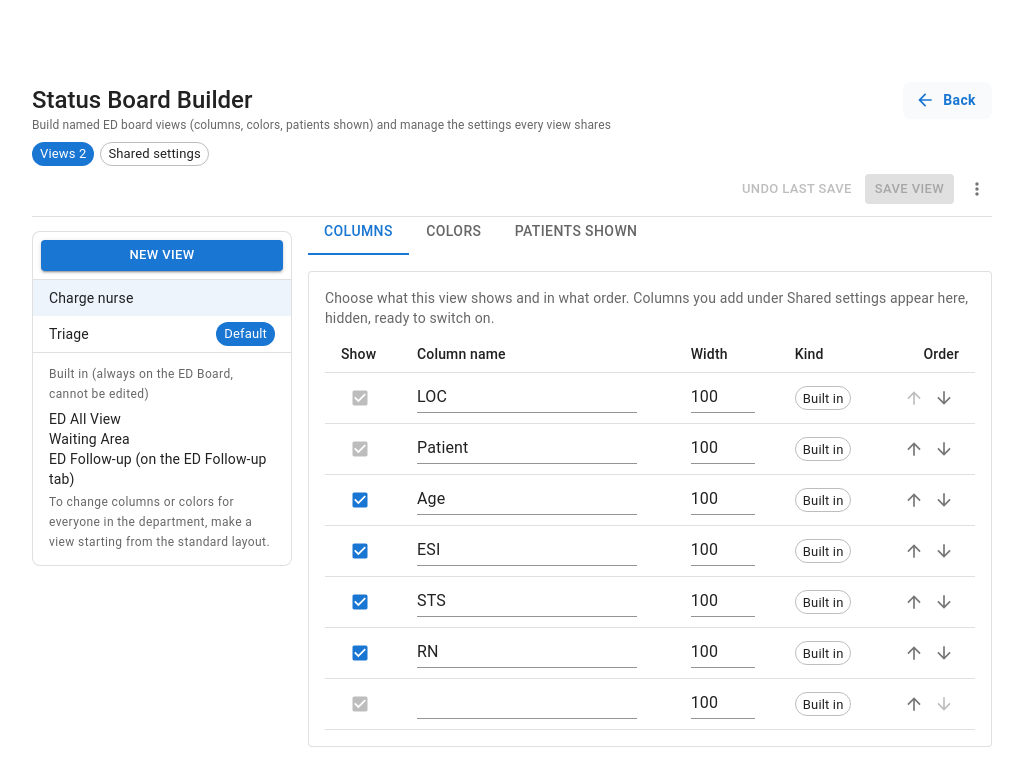
a new view is named by the admin and starts from the standard layout
Expected: the button with test id "view-item-1" is shown, x1=33 y1=280 x2=291 y2=316
Click the button "New view".
click(162, 255)  # box x1=41 y1=240 x2=283 y2=271
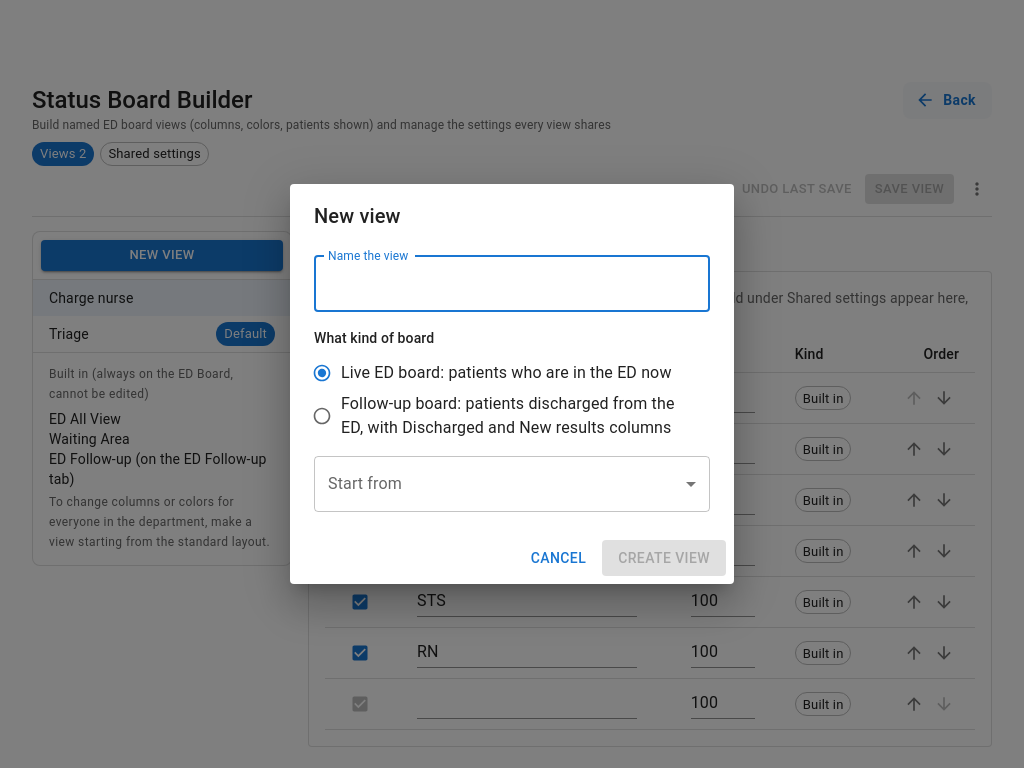
Result: the button "Create view" is disabled at x1=602 y1=540 x2=726 y2=576
Type "Night shift" into the field labelled "Name the view".
click(512, 284); type("Night shift")  # box x1=314 y1=256 x2=710 y2=312
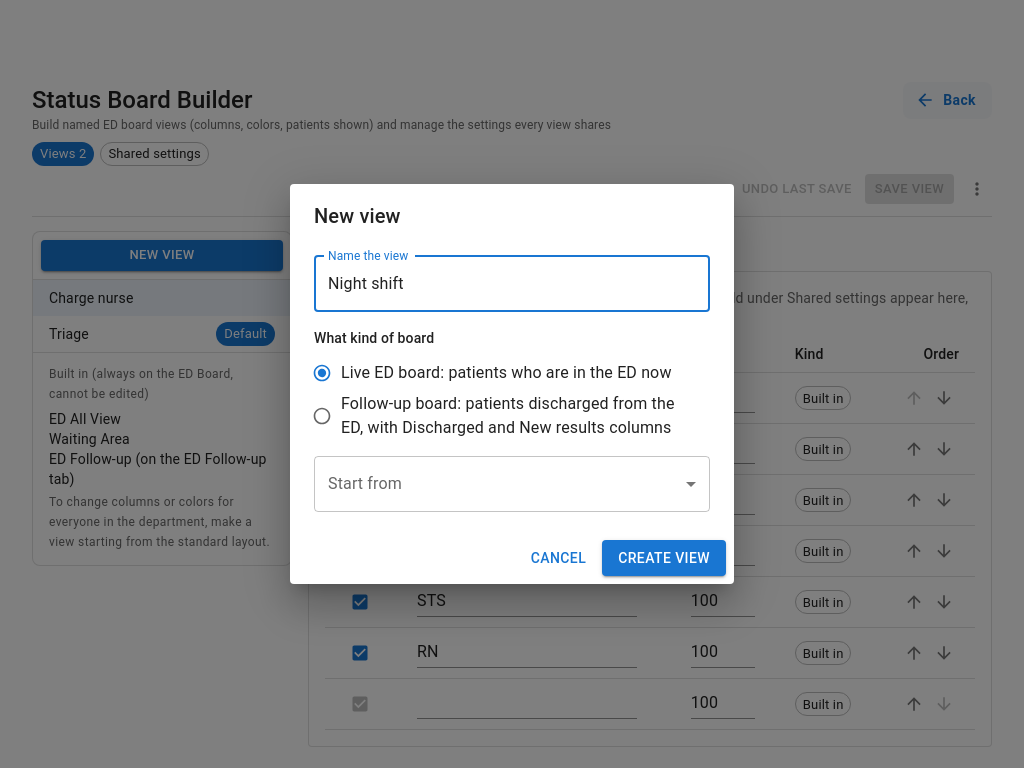
Click the button "Create view".
click(664, 558)  # box x1=602 y1=540 x2=726 y2=576
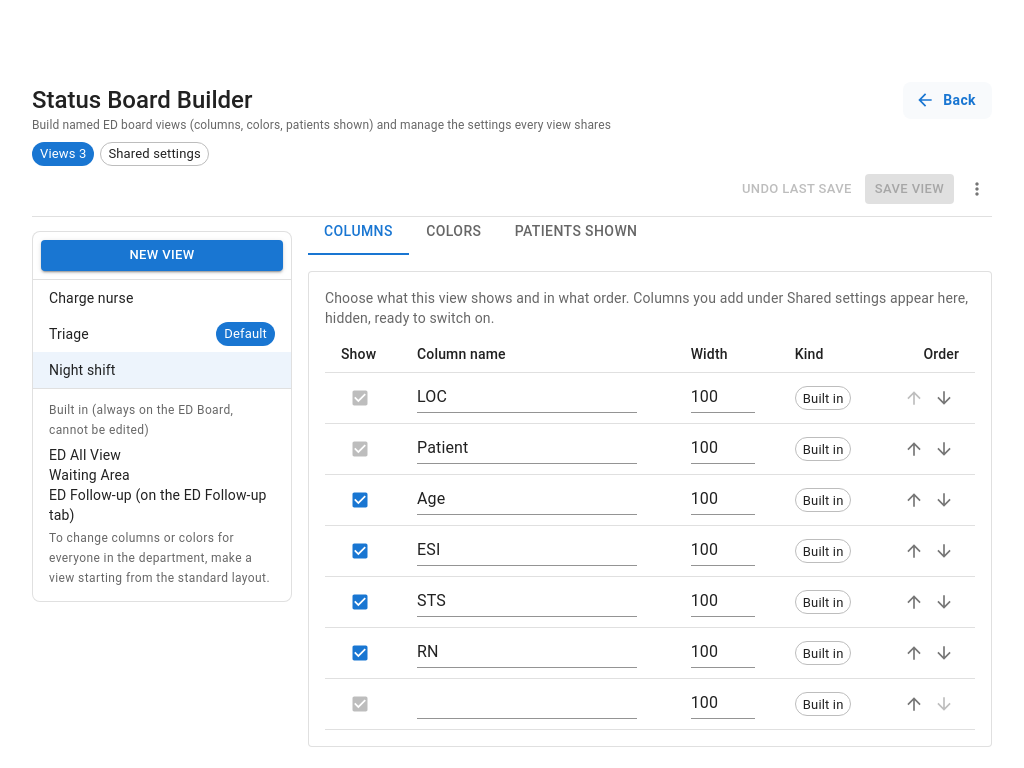
Expected: the field with test id "view-name" holds "Night shift", x1=308 y1=151 x2=556 y2=191
Result: the button with test id "view-item-3" reads "Night shift" at x1=33 y1=352 x2=291 y2=388
